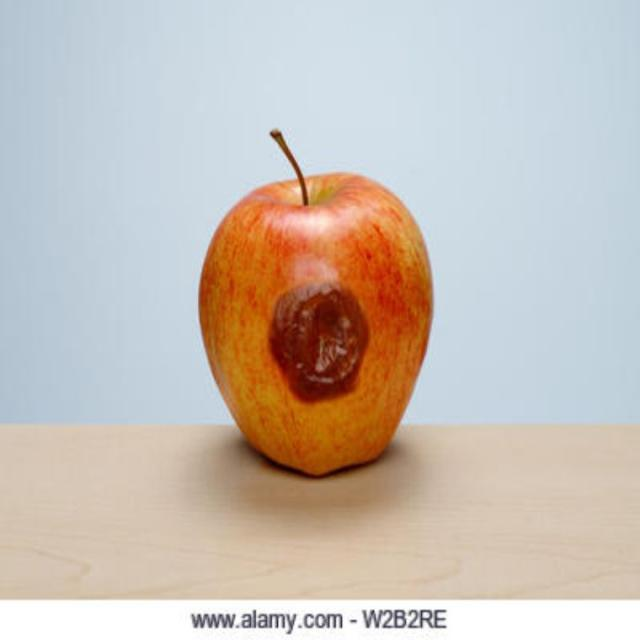Rotten Apple: (196, 136, 448, 472)
